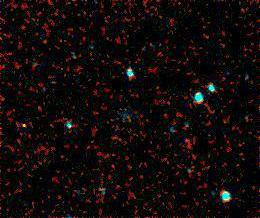star: (11, 110, 41, 140)
